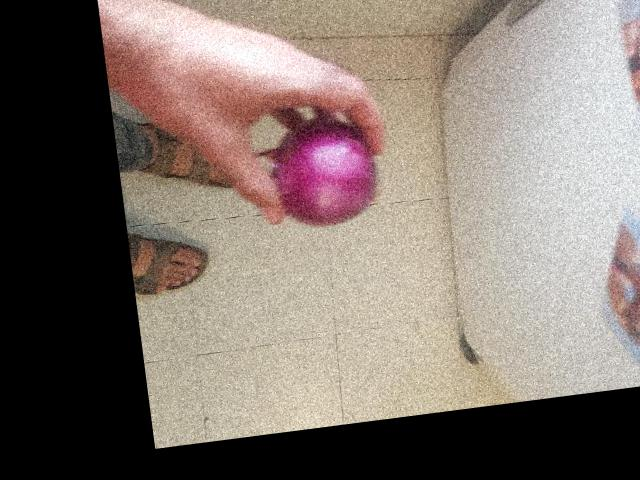onion: (246, 96, 378, 230)
